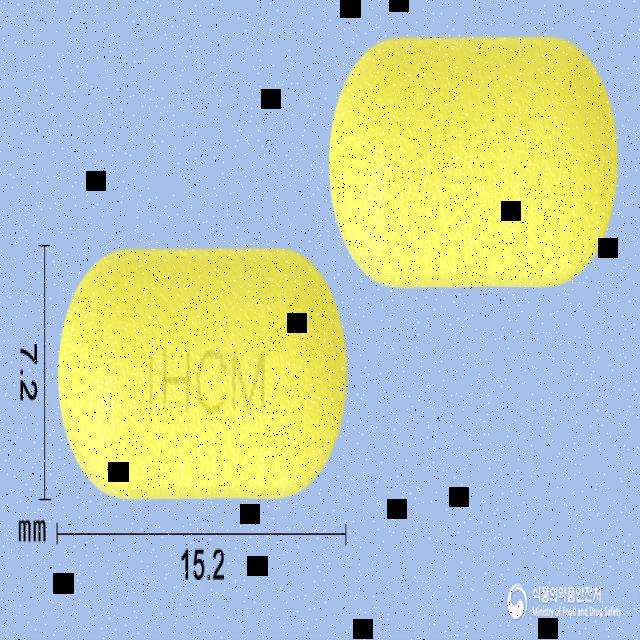Claritin: (328, 34, 620, 291), (58, 248, 348, 502)
